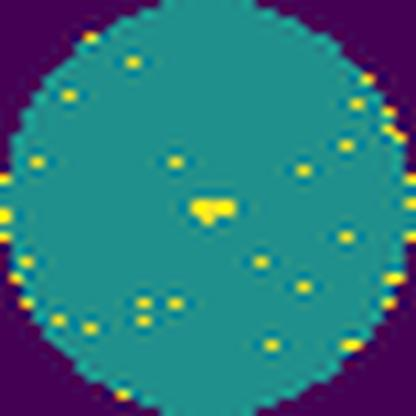Center: (186, 197, 238, 227)
